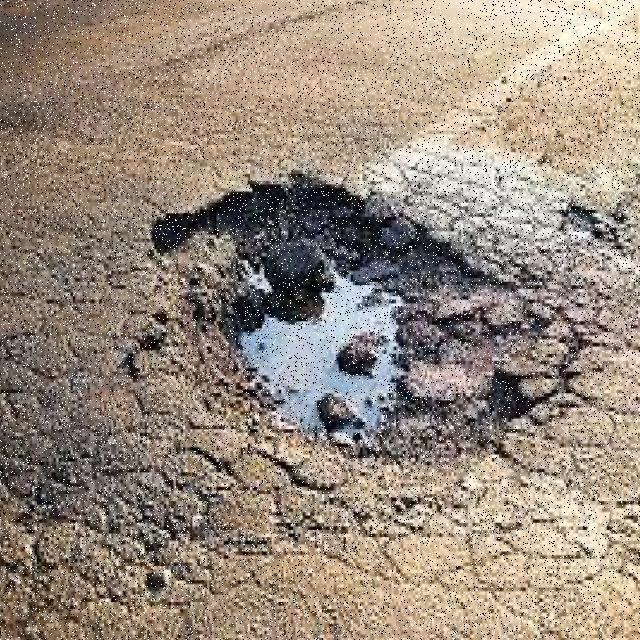pothole: (149, 174, 537, 454)
